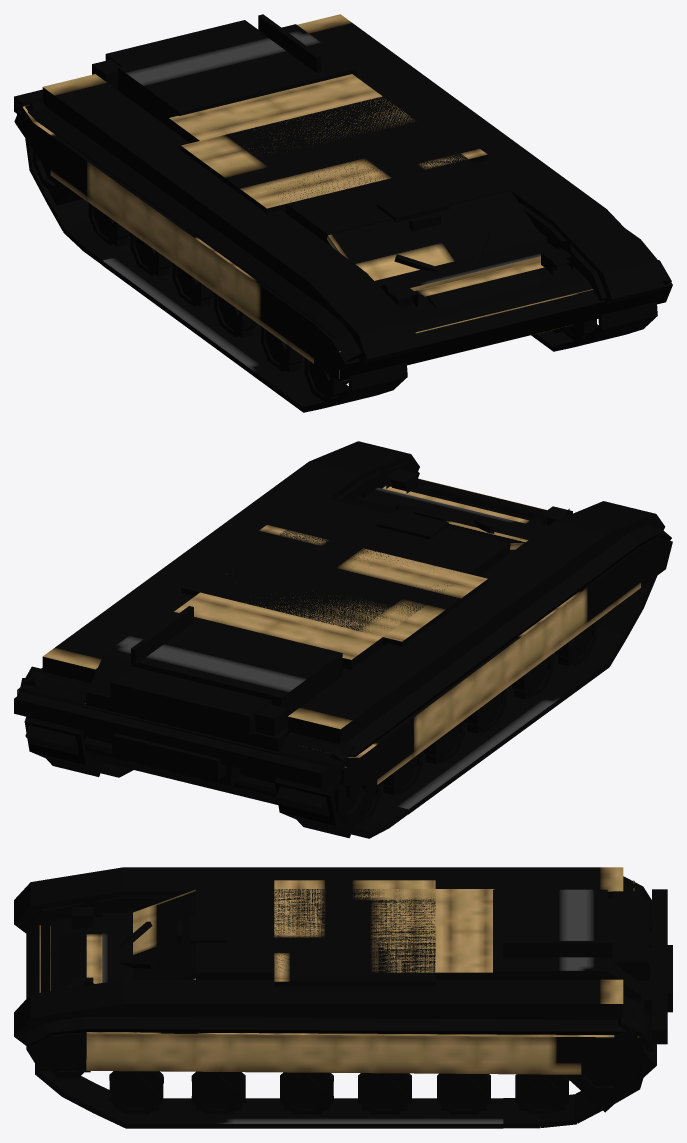
The picture shows the model from 3 angles, top to bottom: view 1: azimuth 30°, elevation 25°; view 2: azimuth 150°, elevation 25°; view 3: azimuth 270°, elevation 25°; orthographic projection. The views are drawn at different scales.
Parts seen in each view (by area): view 1: cube.079, tracks, w3, w4, w2, w5, w6, w7, w15; view 2: cube.079, tracks, w15, w3, w2, w4, w5, w6; view 3: cube.079, tracks, w15, w9, w10, w11, w12, w13, w14.
Part boxes in pixels (box(x1,y1,x2,y2)): cube.079: box(14, 14, 672, 381); tracks: box(25, 138, 657, 412); w3: box(261, 326, 302, 372); w4: box(214, 292, 255, 337); w2: box(304, 357, 348, 401); w5: box(172, 262, 213, 307); w6: box(130, 232, 171, 276); w7: box(88, 203, 130, 245); w15: box(32, 149, 82, 205); cube.079: box(14, 441, 672, 793); tracks: box(24, 576, 656, 838); w15: box(25, 725, 370, 838); w3: box(511, 654, 553, 699); w2: box(555, 621, 596, 666); w4: box(464, 689, 506, 733); w5: box(423, 720, 464, 763); w6: box(381, 751, 422, 794); cube.079: box(14, 867, 672, 1074); tracks: box(35, 934, 649, 1128); w15: box(564, 932, 656, 1112); w9: box(109, 1071, 163, 1114); w10: box(191, 1071, 245, 1114); w11: box(280, 1072, 333, 1114); w12: box(358, 1073, 411, 1114); w13: box(437, 1073, 490, 1114); w14: box(515, 1074, 569, 1113).
Size of the model in its own units: 4.68 by 2.12 by 8.7.
